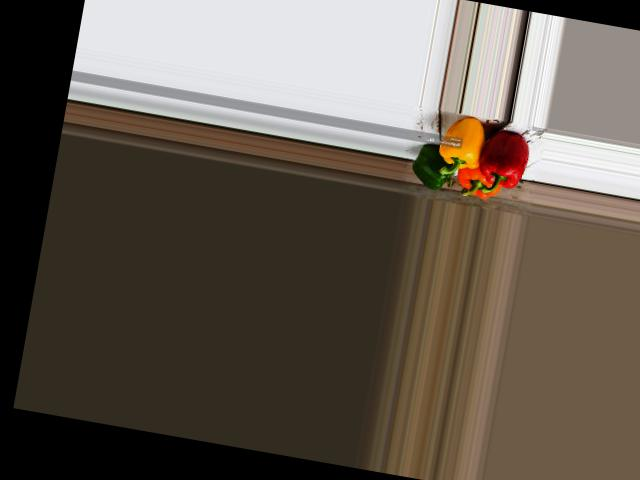bell_pepper: (452, 162, 504, 202)
